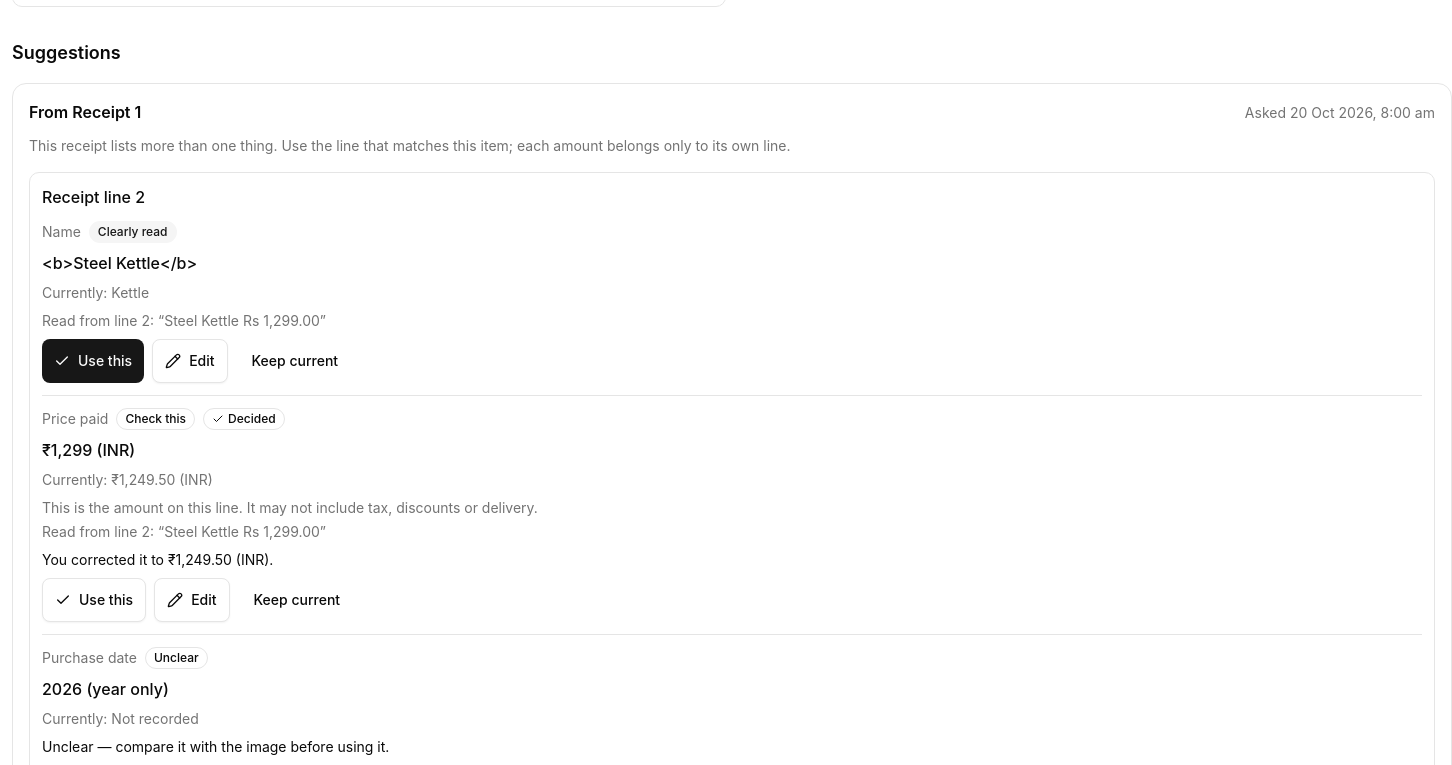
Scenario: PER-45 photo and receipt suggestions › keeps history of previous and confirmed values and reports API refusals plainly
(page scrolled)
Expected: the text "You corrected it to ₹1,249.50 (INR)." is shown, [42,550,273,568]
Click the button with aria-label "Use suggested name". click: (93, 360)
box: [42,338,144,382]
(page scrolled)
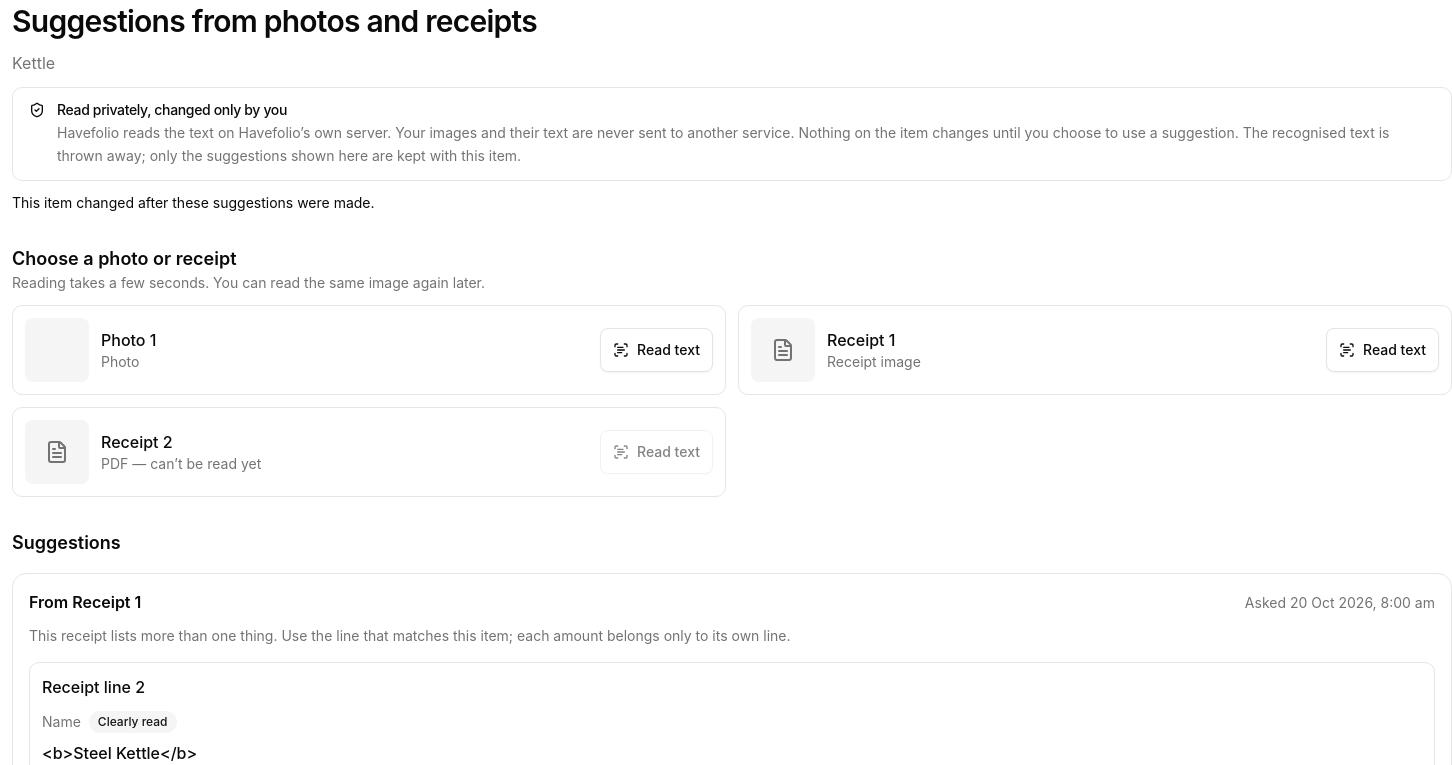
Expected: the message reads "This item changed after these suggestions were made.", [12,194,374,210]
